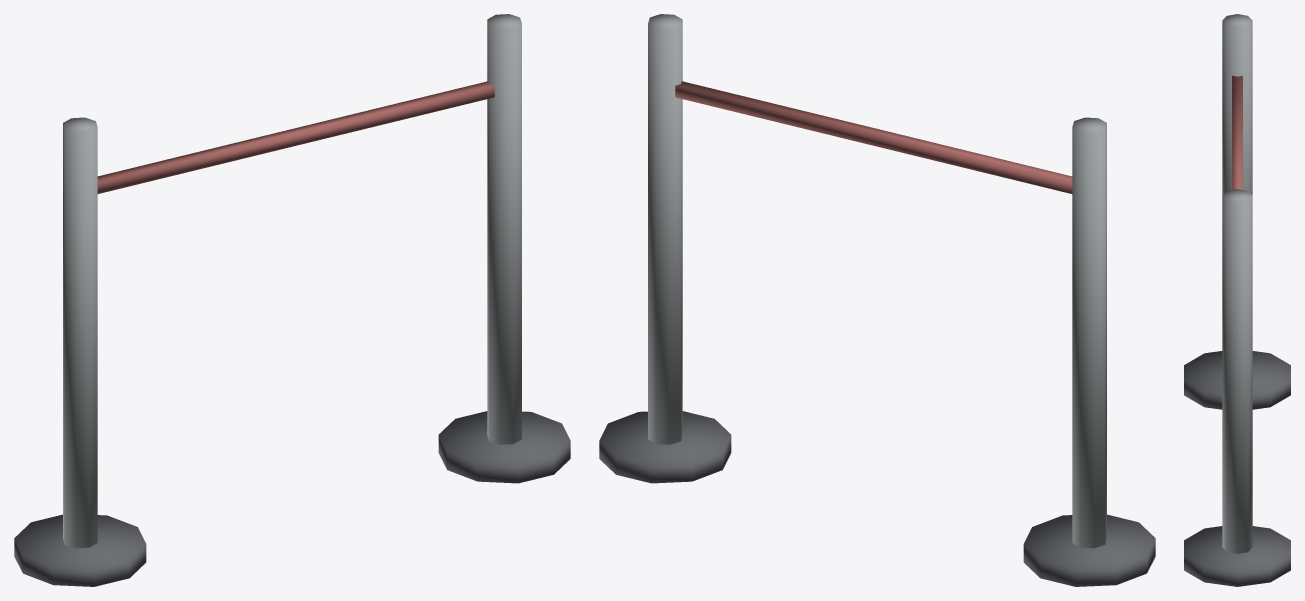
Rendered from museum_rope_barrier.glb.
3 renders of one model, left to right at view 1: azimuth 30°, elevation 25°; view 2: azimuth 150°, elevation 25°; view 3: azimuth 270°, elevation 25°, orthographic. The views are drawn at different scales.
Visible parts, largest first — view 1: world; view 2: world; view 3: world.
Boxes of the visible parts, x1=… form: world: x1=14, y1=14, x2=570, y2=586; world: x1=599, y1=14, x2=1155, y2=586; world: x1=1184, y1=14, x2=1290, y2=586.
Size of the model in its own units: 1.22 by 0.94 by 0.2473.
